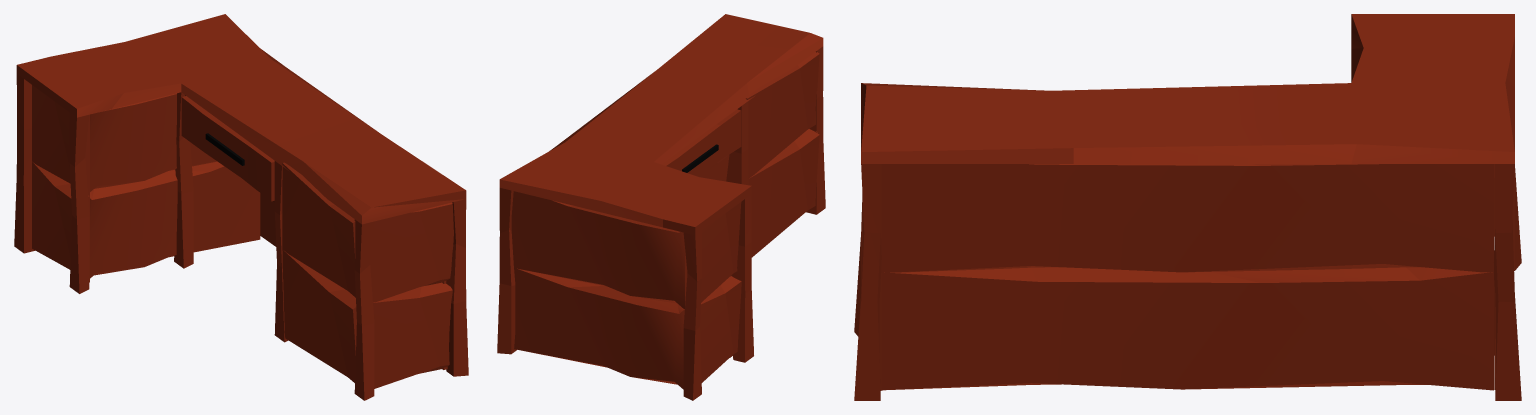
The model's file is Wood_Poor_Cashier.fbx.
3 renders of one model, left to right at view 1: azimuth 30°, elevation 25°; view 2: azimuth 150°, elevation 25°; view 3: azimuth 270°, elevation 25°, orthographic. The views are drawn at different scales.
Parts seen in each view (by area): view 1: Cashier_Lvl_1; view 2: Cashier_Lvl_1; view 3: Cashier_Lvl_1.
Boxes of the visible parts, left/top/right/bottom form: Cashier_Lvl_1: left=14, top=14, right=468, bottom=400; Cashier_Lvl_1: left=497, top=14, right=825, bottom=400; Cashier_Lvl_1: left=854, top=14, right=1521, bottom=400.
Bounding box in the file's own units: 101 × 85.77 × 204.
